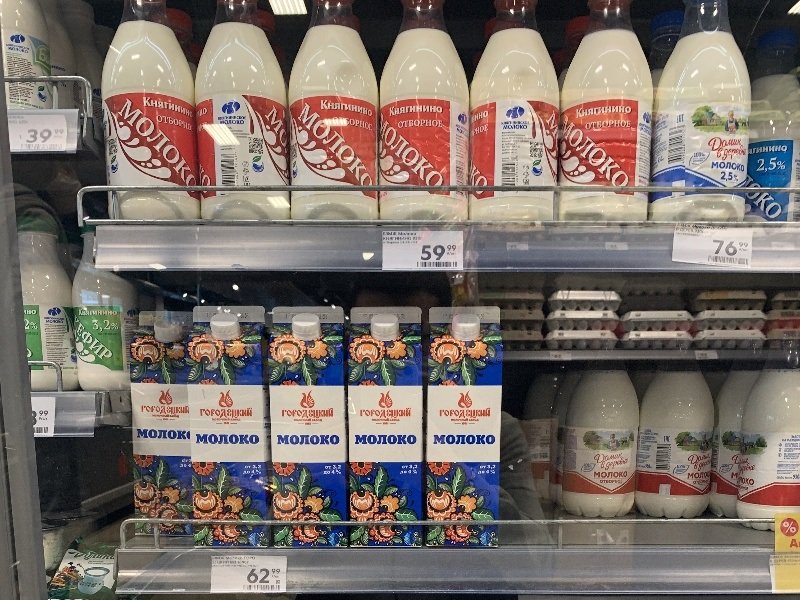milk: (457, 1, 573, 230), (92, 1, 208, 227), (279, 1, 391, 232), (647, 1, 756, 229), (191, 1, 298, 230), (418, 300, 511, 556), (186, 301, 280, 551), (560, 1, 661, 230), (377, 1, 478, 226), (266, 300, 355, 554), (345, 301, 432, 552), (129, 306, 196, 546)
